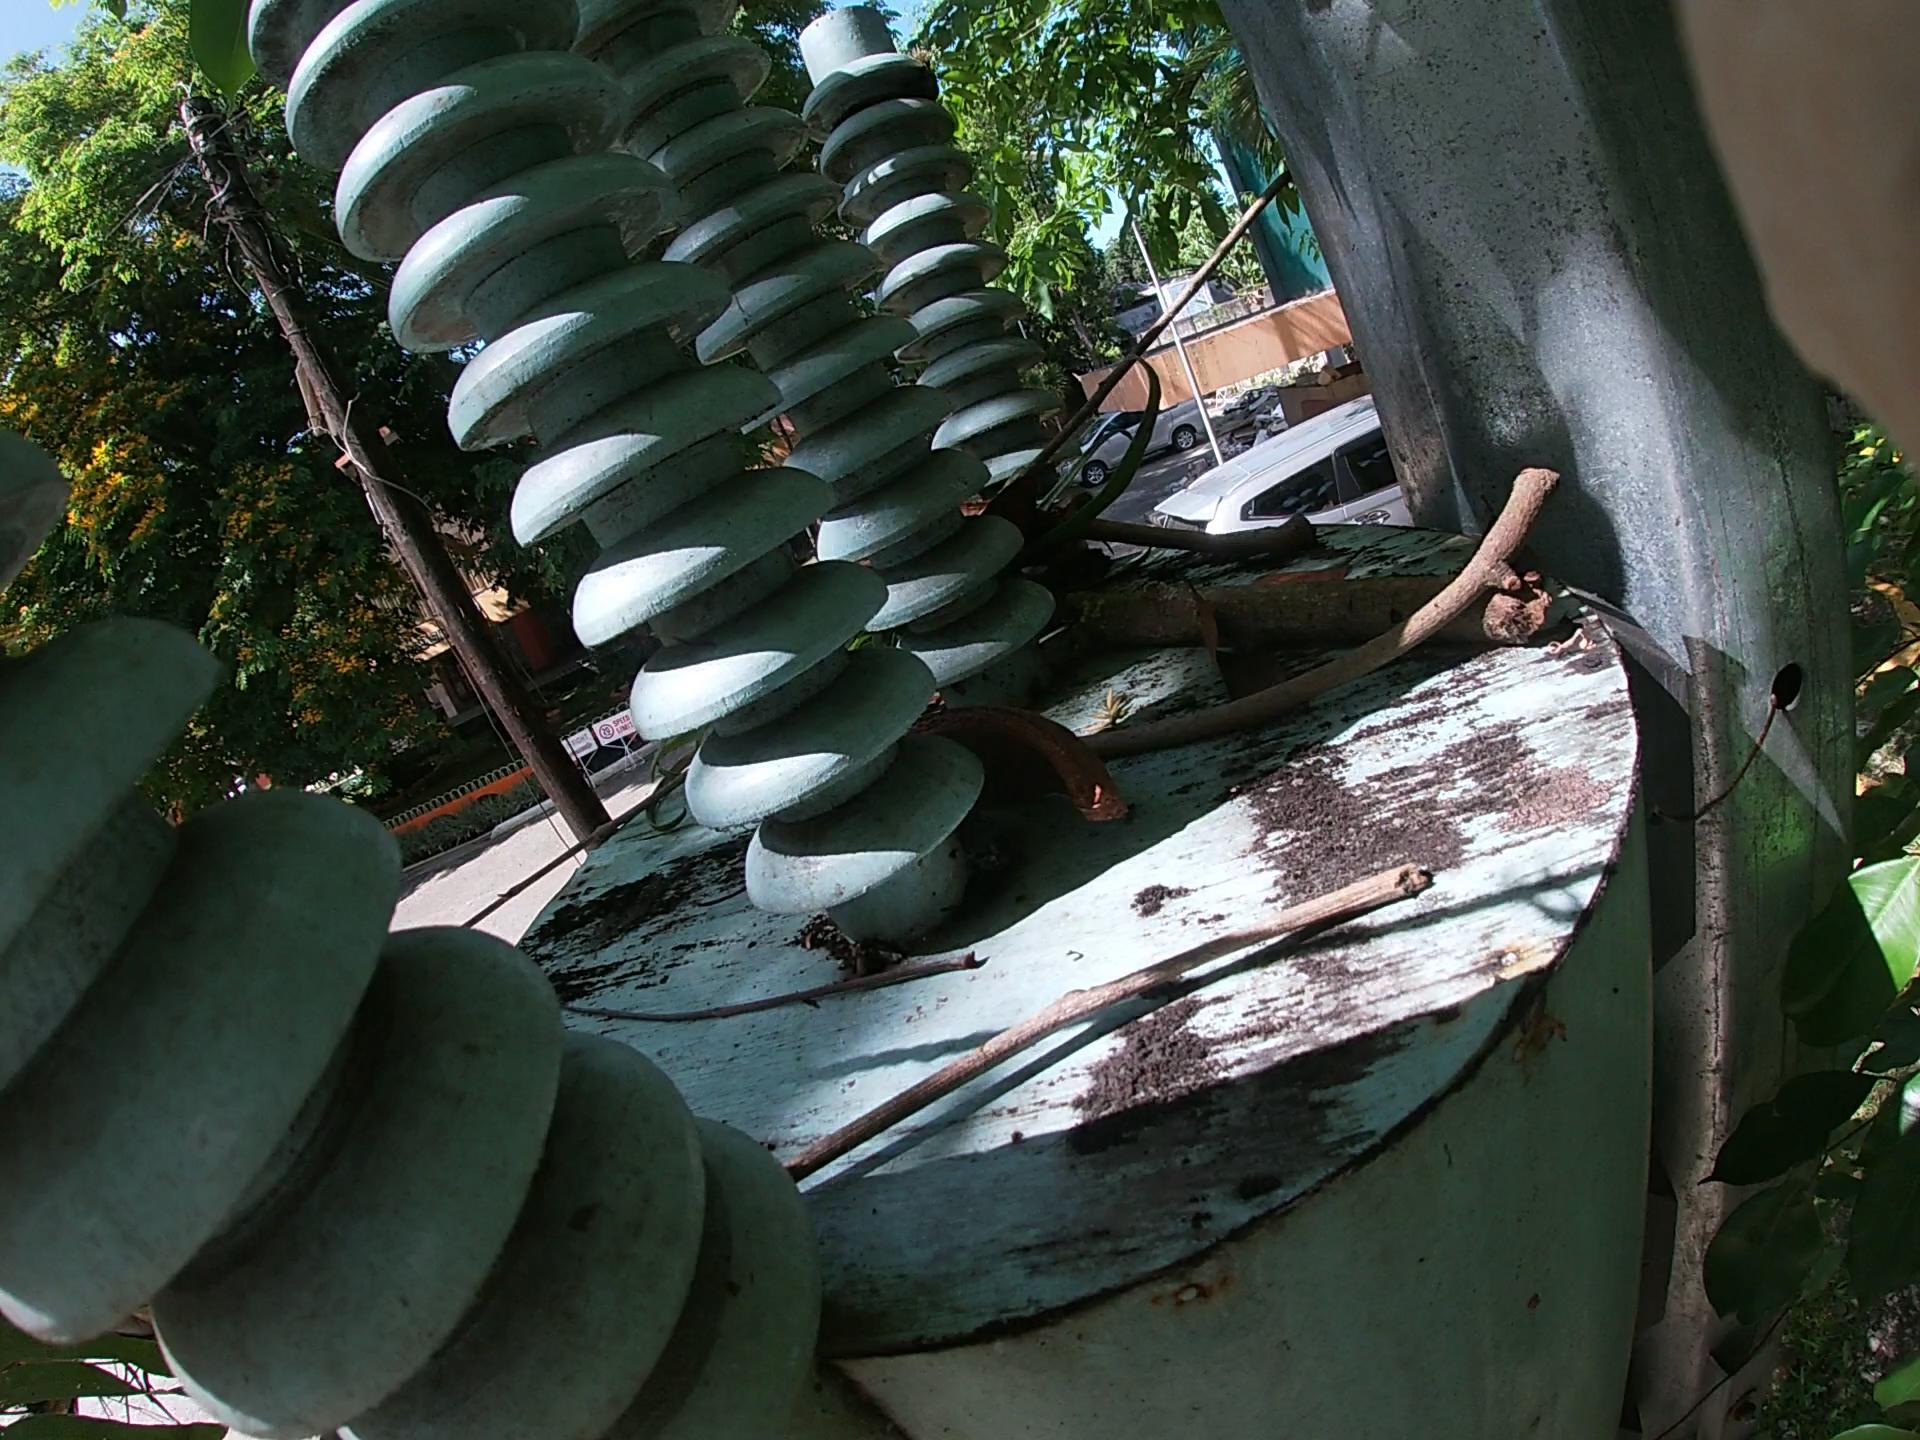branch with leaves: (869, 357, 1652, 693)
leaf: (1188, 529, 1389, 663)
mahogany fruit: (906, 631, 1117, 870)
tree branch: (491, 113, 1332, 917), (825, 923, 1339, 1150), (517, 962, 992, 1013)
